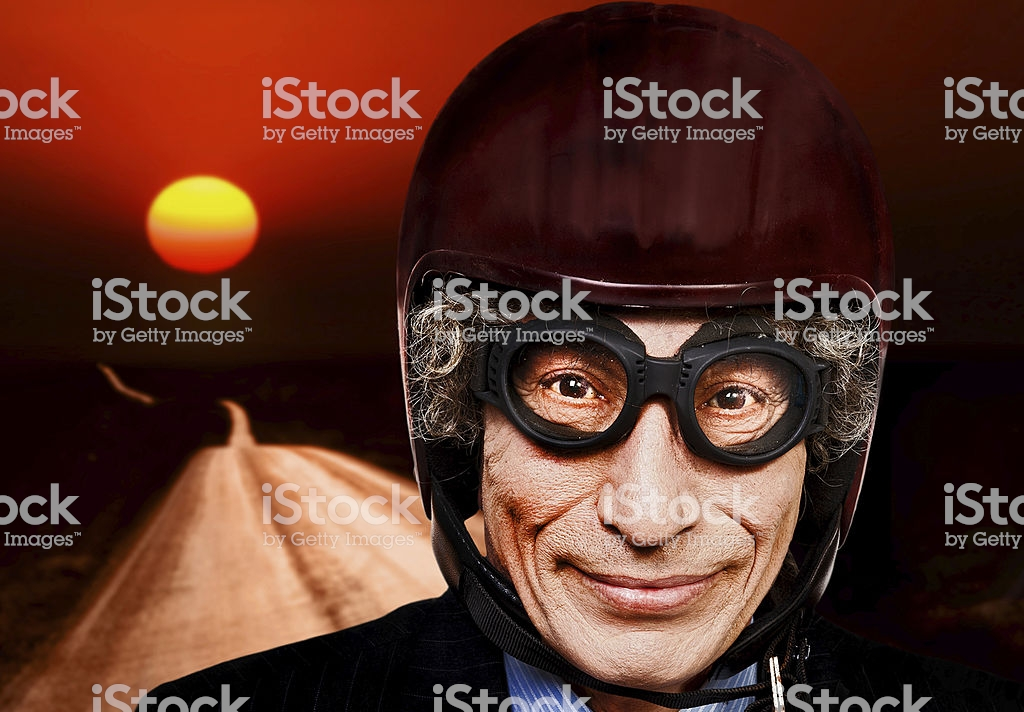helmet: (387, 37, 921, 566)
